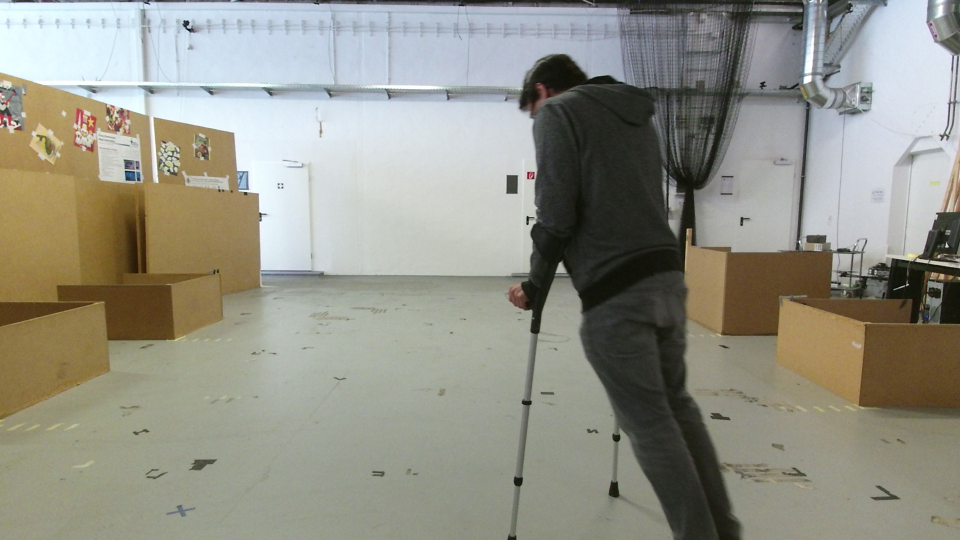crutches: (499, 40, 745, 540)
